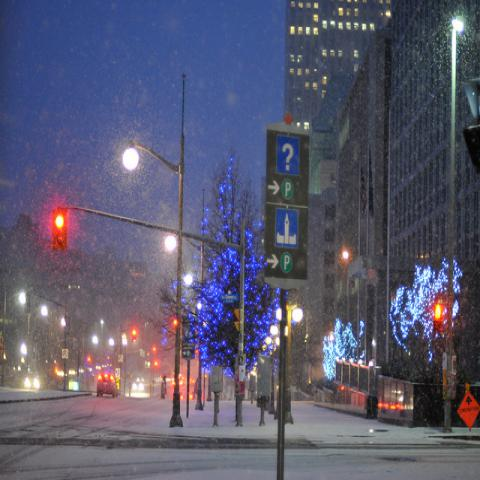car: (96, 375, 118, 398), (131, 376, 145, 392)
